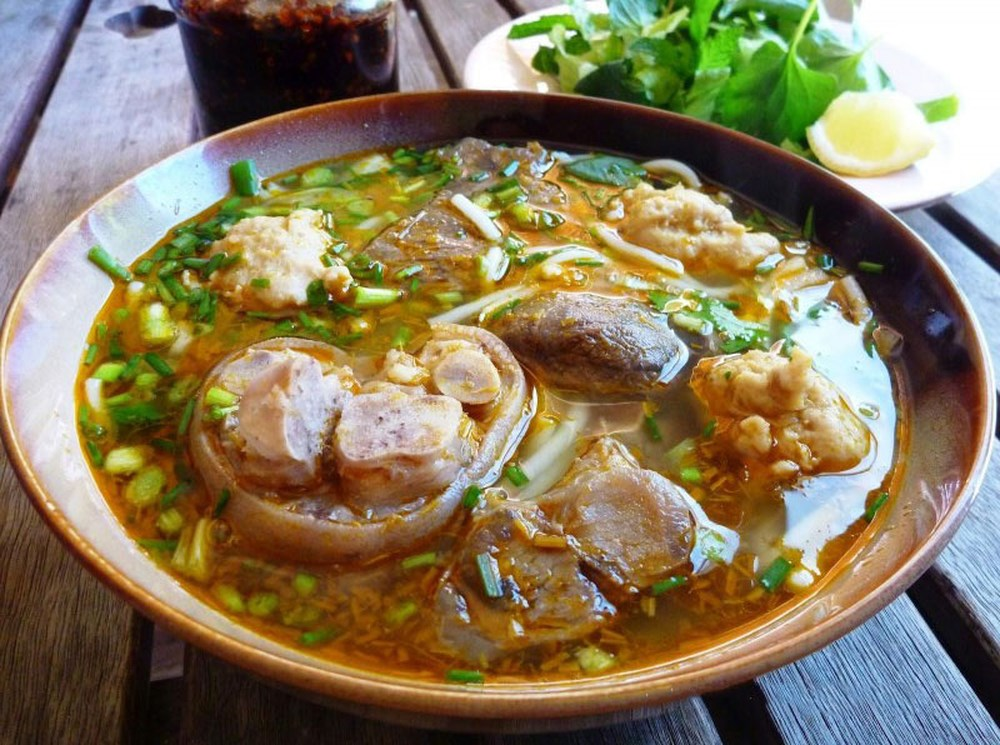beef: (463, 443, 681, 650), (366, 145, 558, 280), (502, 281, 684, 405)
chamoc: (697, 350, 863, 485), (626, 158, 768, 282), (210, 197, 352, 315)
pork: (189, 318, 523, 555)
